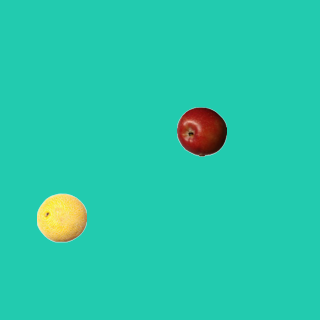Apple Braeburn: (176, 106, 226, 156)
Cantaloupe 1: (36, 192, 86, 242)
